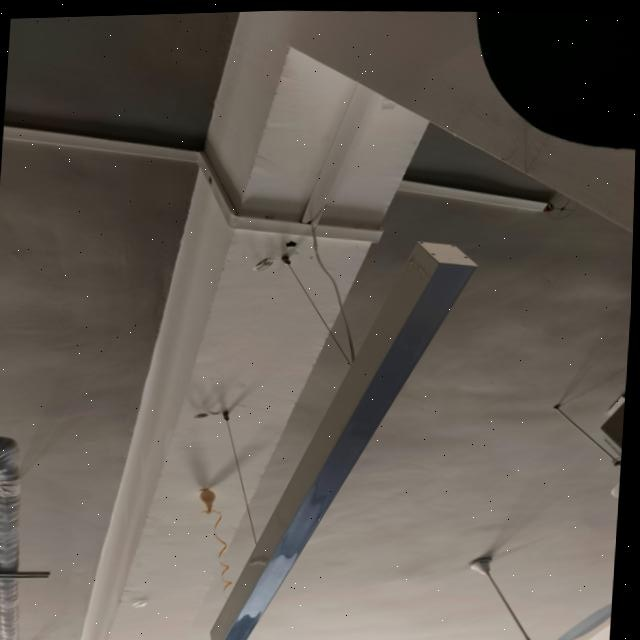fluorescent tube: (205, 227, 489, 640)
